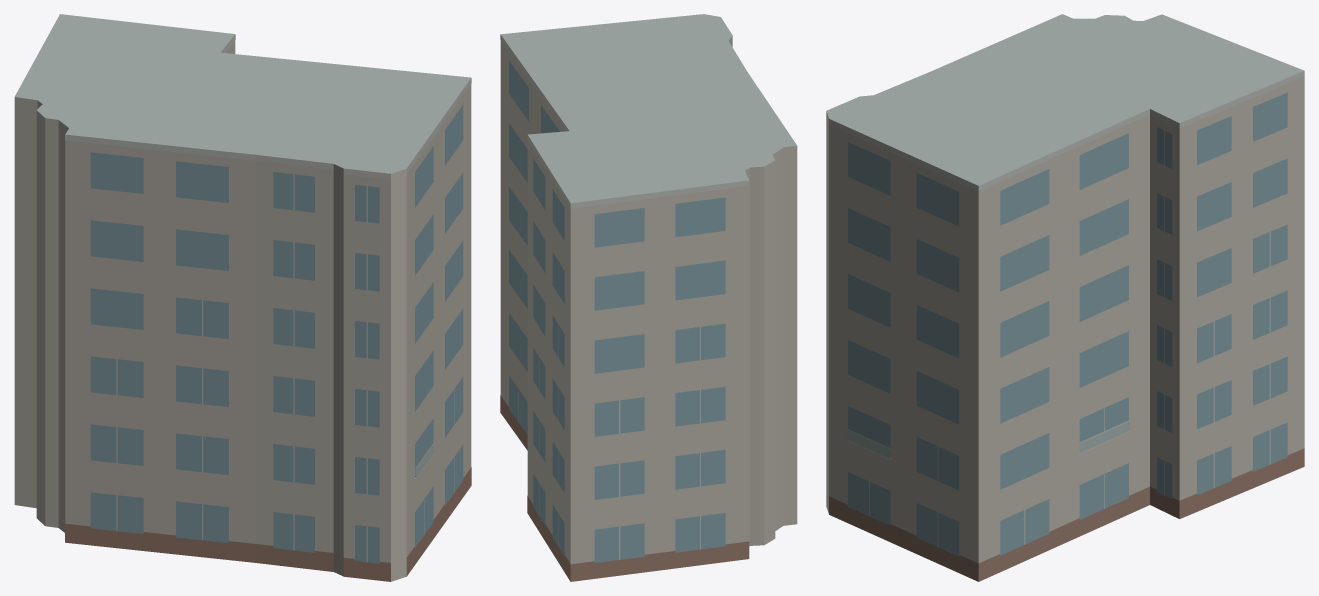
Rendered from survey-upis-32983069.glb.
3 renders of one model, left to right at view 1: azimuth 30°, elevation 25°; view 2: azimuth 150°, elevation 25°; view 3: azimuth 270°, elevation 25°, orthographic. The views are drawn at different scales.
Visible parts, largest first — view 1: survey-upis-32983069.tmp; view 2: survey-upis-32983069.tmp; view 3: survey-upis-32983069.tmp.
Part boxes in pixels (x1,y1,x2,y2): survey-upis-32983069.tmp: (14,14,471,581); survey-upis-32983069.tmp: (500,14,797,581); survey-upis-32983069.tmp: (826,14,1304,581).
Bounding box in the file's own units: 15.6 × 16.75 × 18.34.
